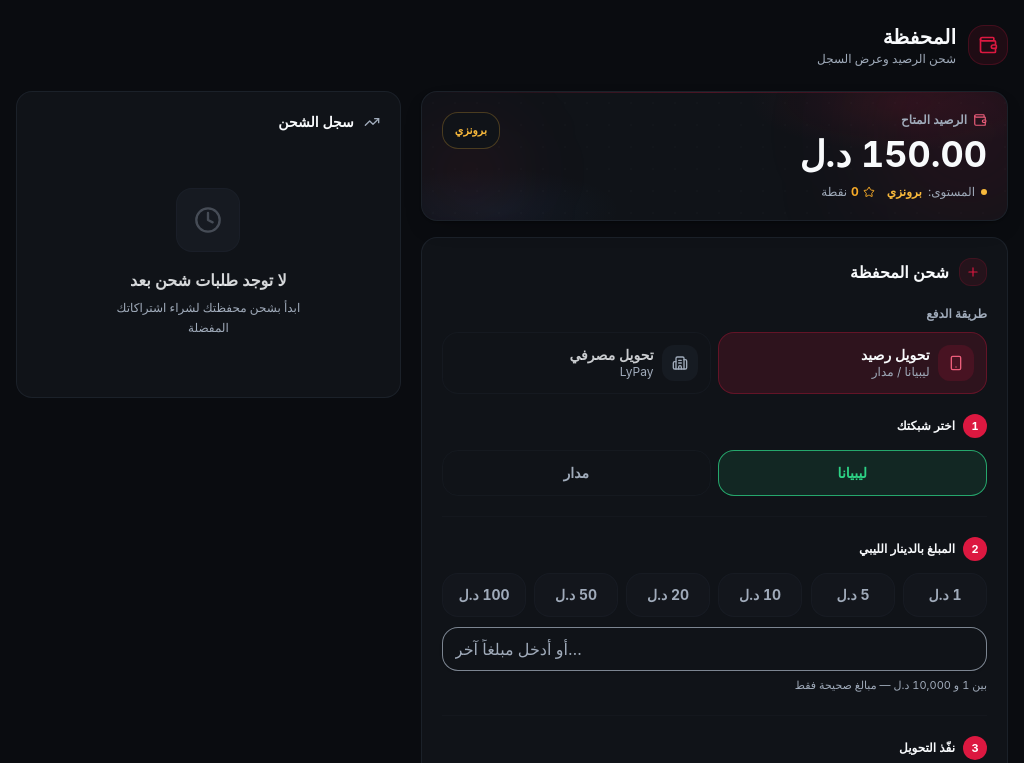
WalletPage — the whole-dinar snap (Math.min(10000, Math.max(1, Math.round(v)))) › 1.6 snaps UP to 2 — the submitted payload AND the field both carry 2
Type "1.6" into the field labelled "المبلغ بالدينار الليبي" at (714, 649), box [442, 627, 987, 671]
(page scrolled)
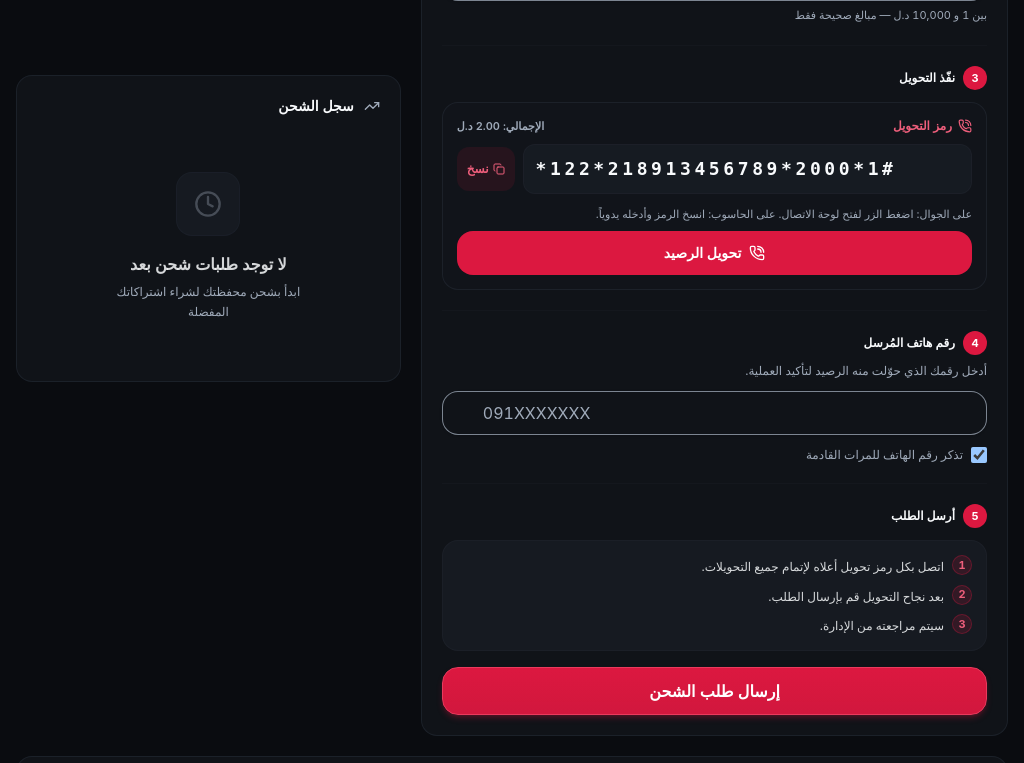
Type "0912345678" into the field labelled "رقم هاتف المُرسل" at (714, 413), box [442, 391, 987, 435]
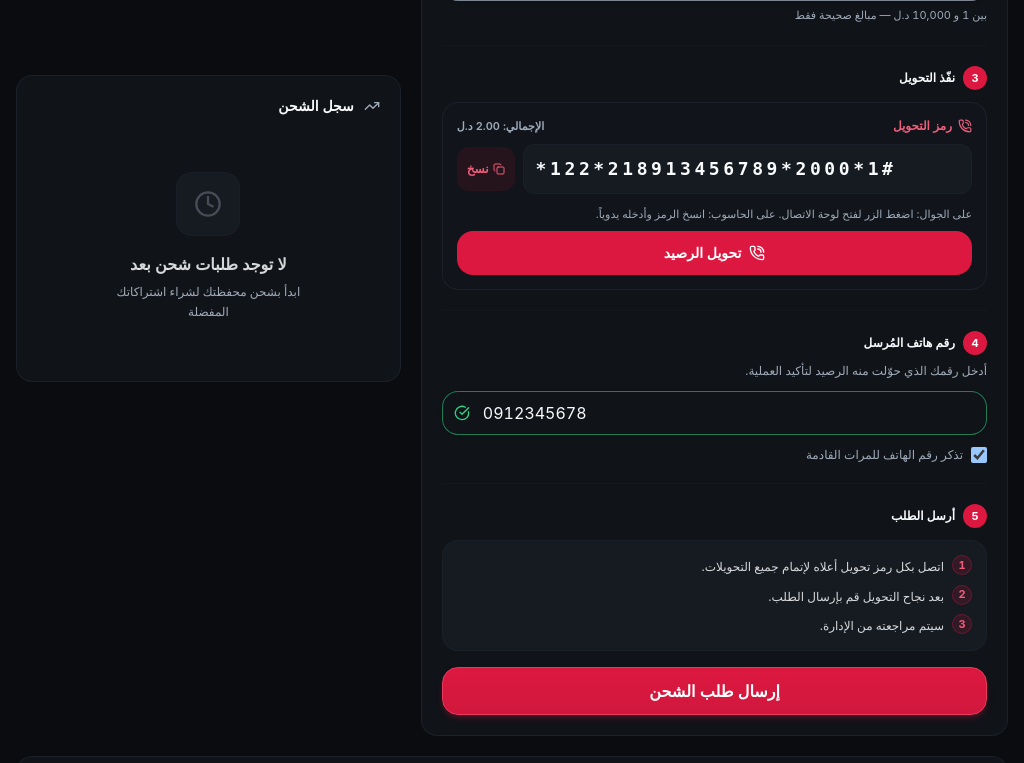
Click the button "إرسال طلب الشحن" at (714, 691), box [442, 667, 987, 715]
(page scrolled)
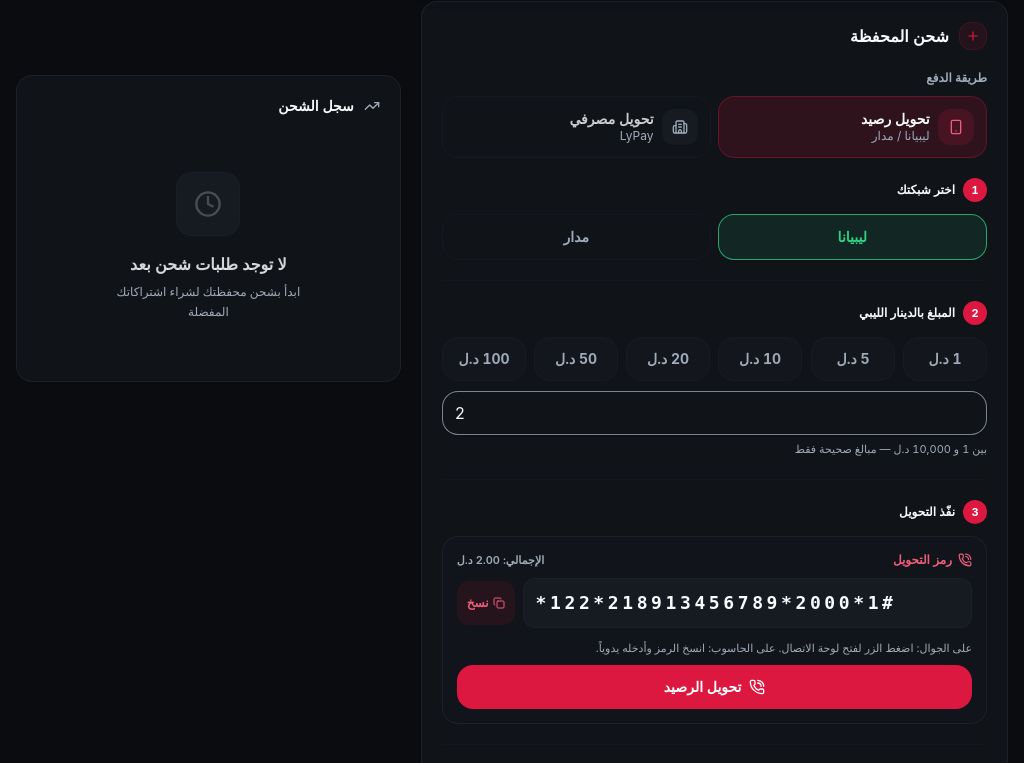
Now the field labelled "المبلغ بالدينار الليبي" holds "2", box [442, 391, 987, 435]
